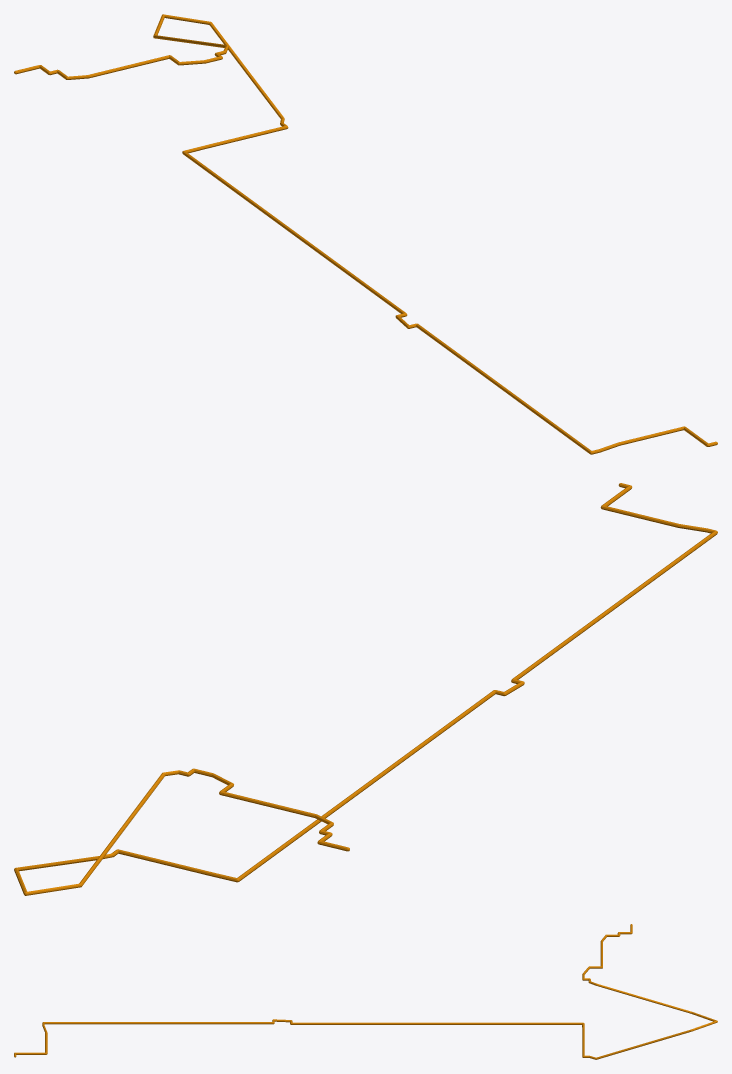
The picture shows the model from 3 angles, top to bottom: view 1: azimuth 30°, elevation 25°; view 2: azimuth 150°, elevation 25°; view 3: azimuth 270°, elevation 25°; orthographic projection. The views are drawn at different scales.
Size of the model in its own units: 1492 by 520 by 5666.
